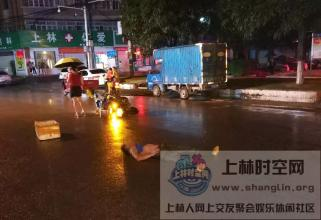10+: (6, 51, 143, 116)
down: (115, 135, 226, 171)
